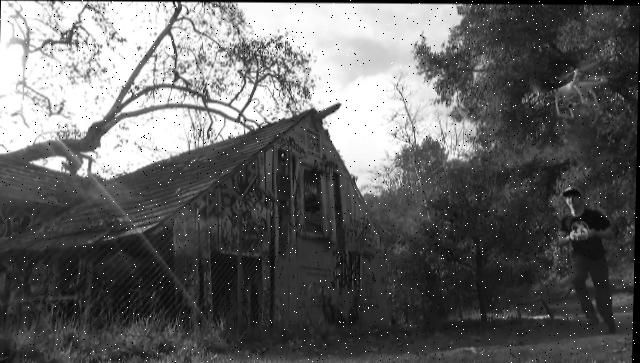drone: (531, 62, 608, 117)
